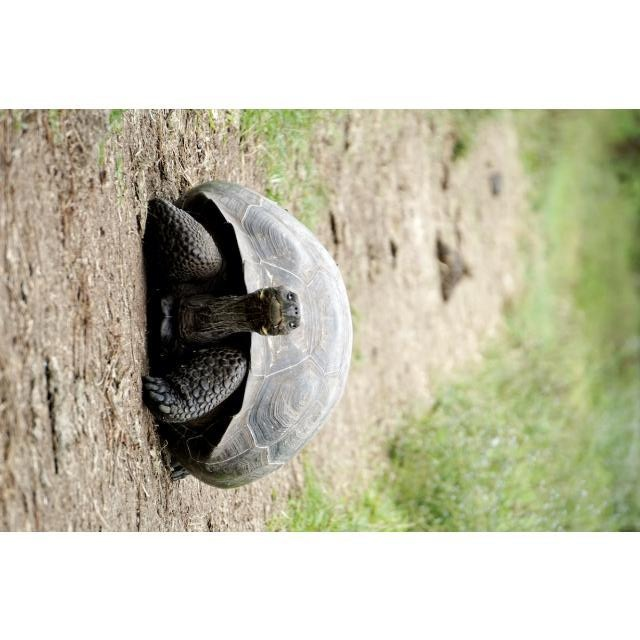turtle: (138, 177, 354, 491)
